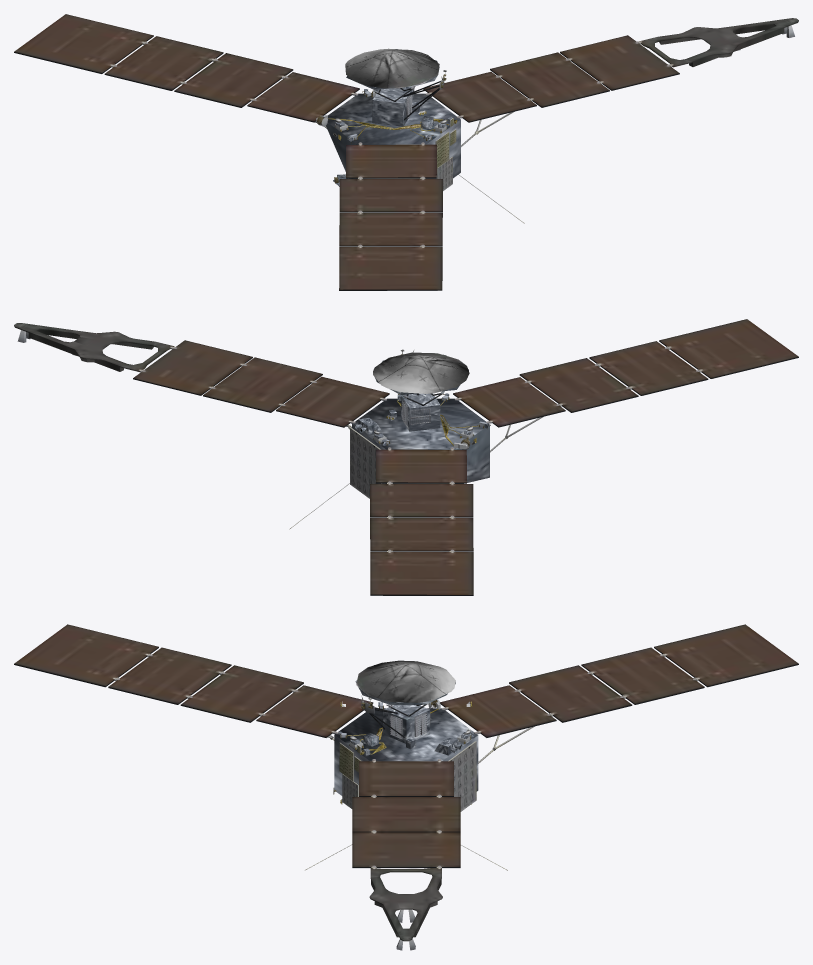
File: space-juno.glb
3 renders of one model, top to bottom at view 1: azimuth 30°, elevation 25°; view 2: azimuth 150°, elevation 25°; view 3: azimuth 270°, elevation 25°, orthographic. The views are drawn at different scales.
Parts seen in each view (by area): view 1: shiny_panels_Geometry-Body.021, dish_bottom_Geometry-Mesh, solar_panels_Geometry-Body.006, dish_top_Geometry-Mesh.002, black_krinkle_Geometry-Body.007, tex_01_Geometry-Body.003; view 2: shiny_panels_Geometry-Body.021, dish_bottom_Geometry-Mesh, tex_01_Geometry-Body.003, dish_top_Geometry-Mesh.002, solar_panels_Geometry-Body.006, black_krinkle_Geometry-Body.007; view 3: shiny_panels_Geometry-Body.021, dish_bottom_Geometry-Mesh, tex_01_Geometry-Body.003, dish_top_Geometry-Mesh.002, solar_panels_Geometry-Body.006, black_krinkle_Geometry-Body.007.
Part boxes in pixels (bbox=[...]): shiny_panels_Geometry-Body.021: bbox=[14, 14, 679, 289]; dish_bottom_Geometry-Mesh: bbox=[326, 49, 460, 186]; solar_panels_Geometry-Body.006: bbox=[387, 18, 798, 290]; dish_top_Geometry-Mesh.002: bbox=[345, 48, 439, 88]; black_krinkle_Geometry-Body.007: bbox=[14, 35, 679, 290]; tex_01_Geometry-Body.003: bbox=[110, 25, 794, 247]; shiny_panels_Geometry-Body.021: bbox=[133, 319, 798, 594]; dish_bottom_Geometry-Mesh: bbox=[352, 354, 490, 483]; tex_01_Geometry-Body.003: bbox=[17, 330, 702, 552]; dish_top_Geometry-Mesh.002: bbox=[373, 352, 469, 393]; solar_panels_Geometry-Body.006: bbox=[14, 323, 382, 595]; black_krinkle_Geometry-Body.007: bbox=[133, 340, 798, 595]; shiny_panels_Geometry-Body.021: bbox=[14, 624, 798, 866]; dish_bottom_Geometry-Mesh: bbox=[334, 665, 478, 795]; tex_01_Geometry-Body.003: bbox=[112, 653, 699, 950]; dish_top_Geometry-Mesh.002: bbox=[356, 660, 455, 702]; solar_panels_Geometry-Body.006: bbox=[352, 868, 460, 941]; black_krinkle_Geometry-Body.007: bbox=[14, 647, 798, 867].
Bounding box in the file's own units: 17.66 × 4.25 × 18.54.
9 materials, 9 textured.
